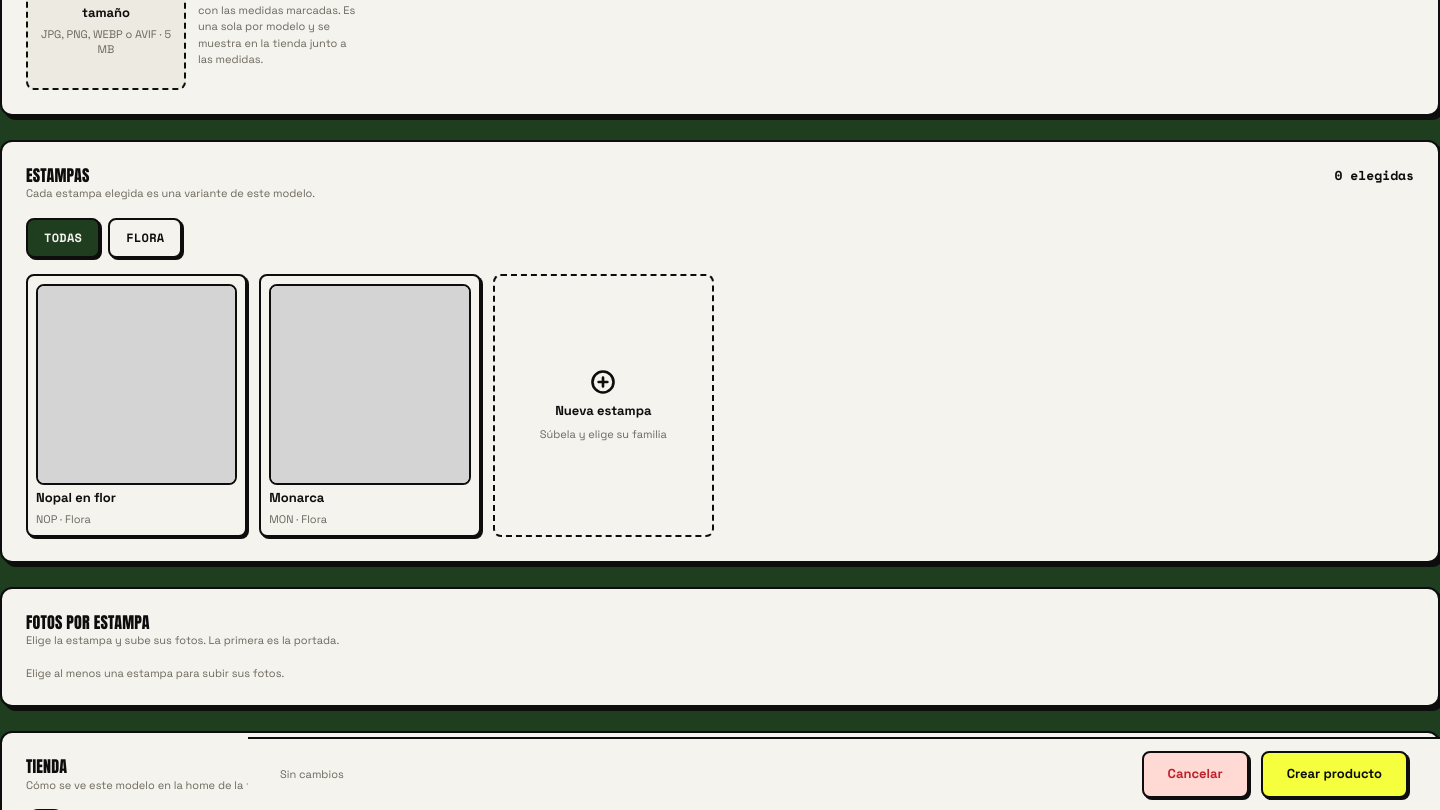
Scenario: ProductEditor · crear › «Nueva estampa» abre el panel
(page scrolled)
Click the button "Nueva estampa Súbela y elige su familia".
click(603, 405)  # box [493,274,714,537]
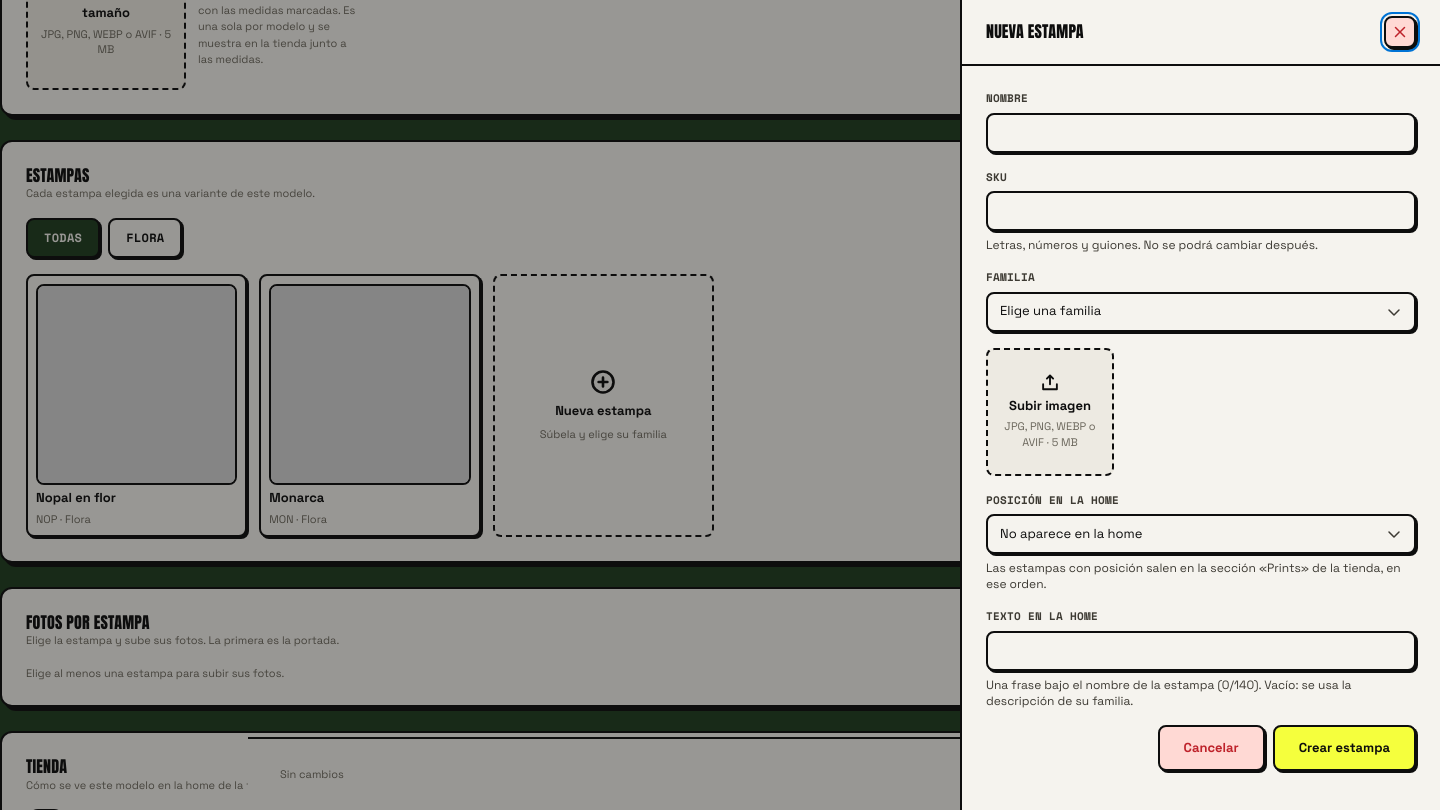
Check: the dialog "Nueva estampa" is shown, box [960,0,1439,809]
